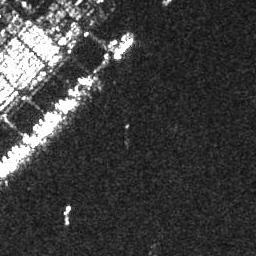ship: (113, 35, 134, 60), (62, 203, 73, 227)
